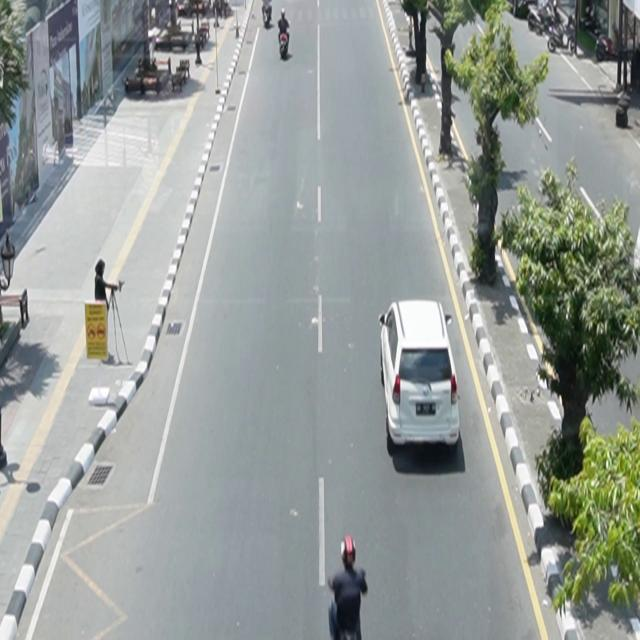car: (379, 299, 461, 450)
